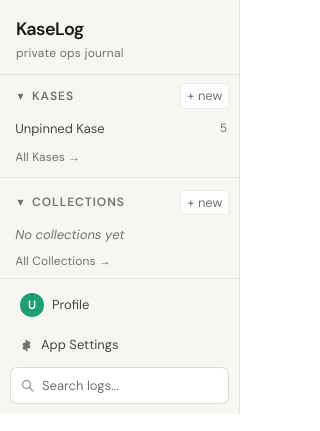
Test: LeftNav — pinned Kases › right-click context menu shows "Pin Kase" for unpinned kase
This screenshot has width=320, height=431.
Right-click the element with test id "nav-kase-k1" at (60, 128), box [15, 120, 227, 137]
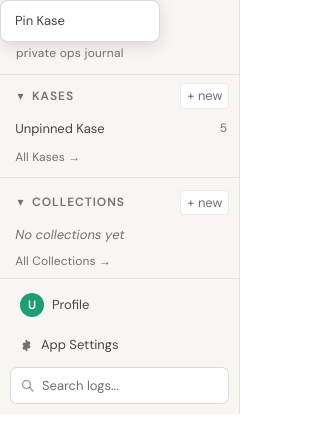
Expected: the button with test id "context-menu-pin-action" reads "Pin Kase", [5, 5, 155, 36]
